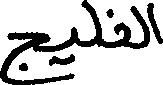X: (0, 27, 47, 84), (84, 0, 101, 51), (132, 0, 147, 53), (149, 0, 162, 48), (70, 22, 77, 83), (118, 17, 128, 51)
